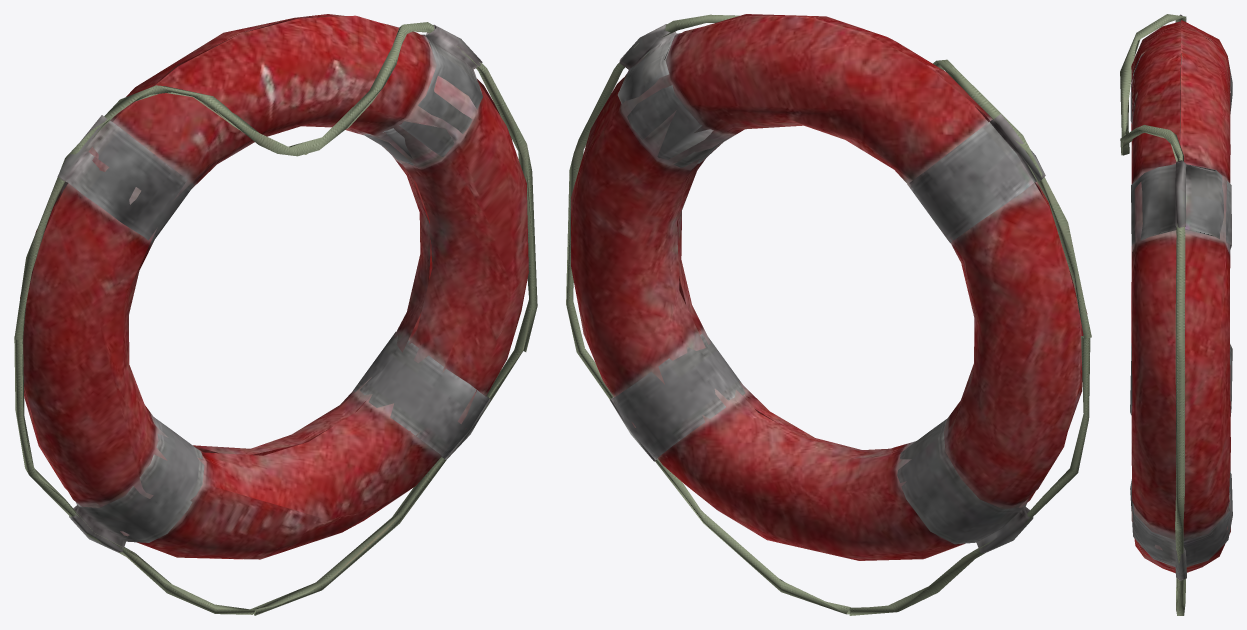
File: ph_lifebuoy.glb
3 renders of one model, left to right at view 1: azimuth 30°, elevation 25°; view 2: azimuth 150°, elevation 25°; view 3: azimuth 270°, elevation 25°, orthographic. The views are drawn at different scales.
Parts seen in each view (by area): view 1: lifebuoy; view 2: lifebuoy; view 3: lifebuoy.
Boxes of the visible parts, <box> form: lifebuoy: <box>14,14,537,615</box>; lifebuoy: <box>566,14,1091,615</box>; lifebuoy: <box>1120,14,1232,615</box>.
Size of the model in its own units: 0.7859 by 0.8422 by 0.1548.
Materials: 1 (1 with a texture image).
